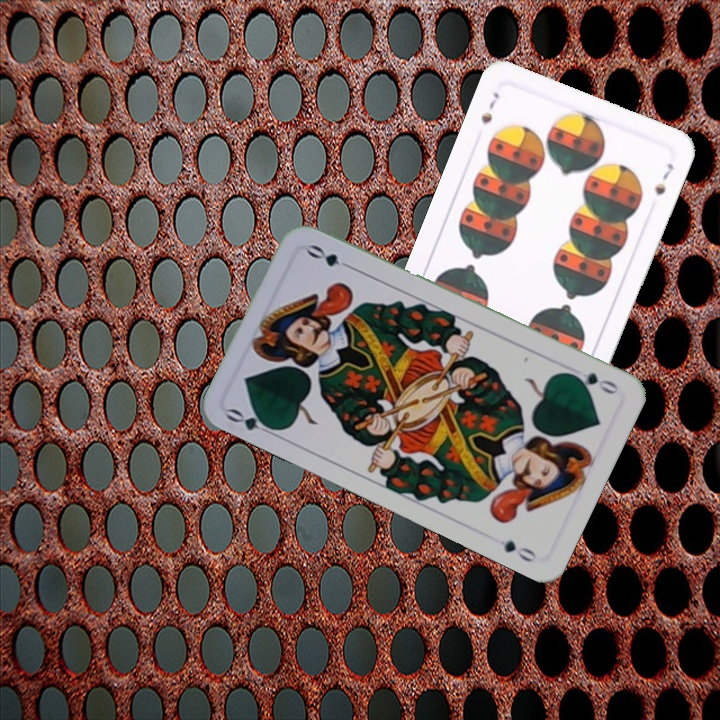GO: (222, 404, 281, 440), (564, 368, 621, 397)
S7: (477, 88, 502, 127)
